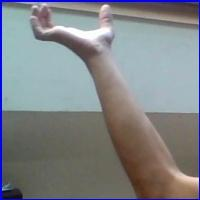space: (24, 4, 116, 60)
